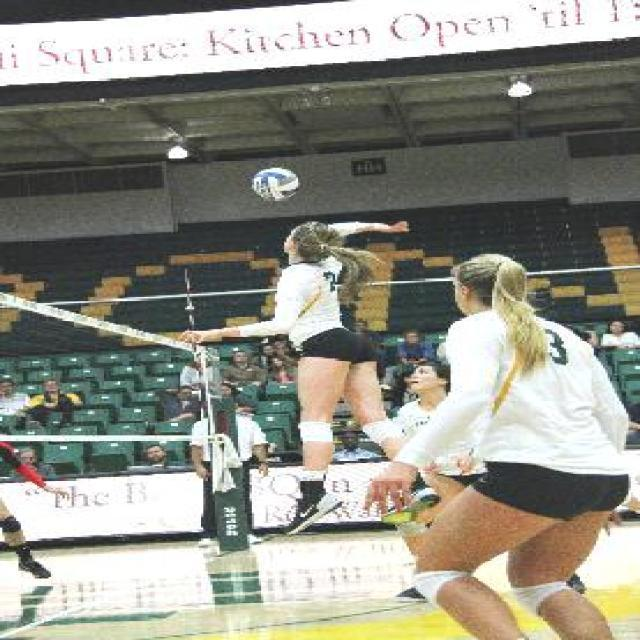volleyball: (252, 167, 300, 200)
